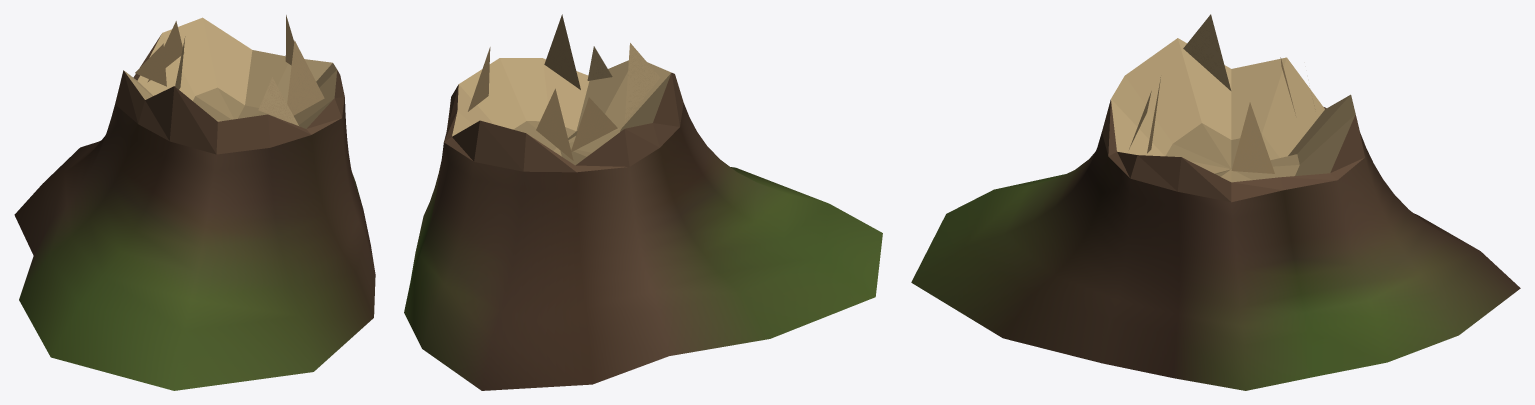
Rendered from stump-old-a.glb.
3 renders of one model, left to right at view 1: azimuth 30°, elevation 25°; view 2: azimuth 150°, elevation 25°; view 3: azimuth 270°, elevation 25°, orthographic. The views are drawn at different scales.
Visible parts, largest first — view 1: stump-old-a; view 2: stump-old-a; view 3: stump-old-a.
Part boxes in pixels (bbox=[...]): stump-old-a: bbox=[14, 15, 375, 390]; stump-old-a: bbox=[404, 14, 882, 390]; stump-old-a: bbox=[911, 14, 1520, 390].
Bounding box in the file's own units: 0.5444 × 0.3284 × 0.6704.
